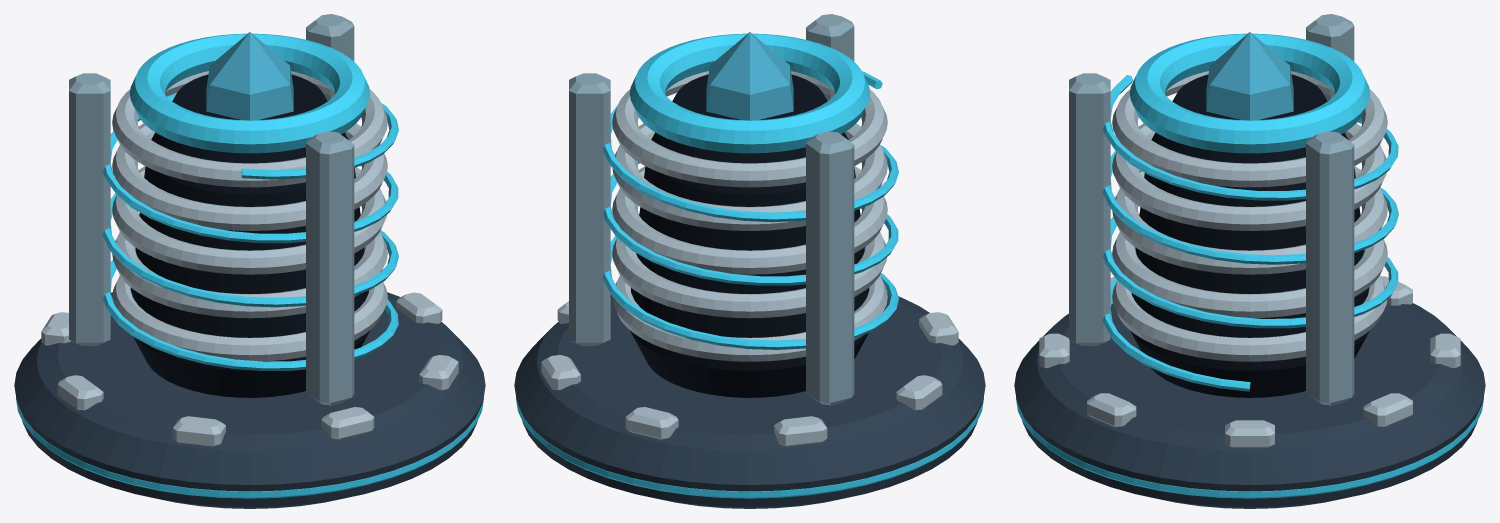
File: emp.obj
The picture shows the model from 3 angles, left to right: view 1: azimuth 30°, elevation 25°; view 2: azimuth 150°, elevation 25°; view 3: azimuth 270°, elevation 25°; orthographic projection.
Parts seen in each view (by area): view 1: emp; view 2: emp; view 3: emp.
Boxes of the visible parts, box(x1,y1,x2,y2) form: emp: box(14, 14, 485, 508); emp: box(514, 14, 985, 508); emp: box(1014, 14, 1485, 508).
Size of the model in its own units: 0.294 by 0.2725 by 0.294.
